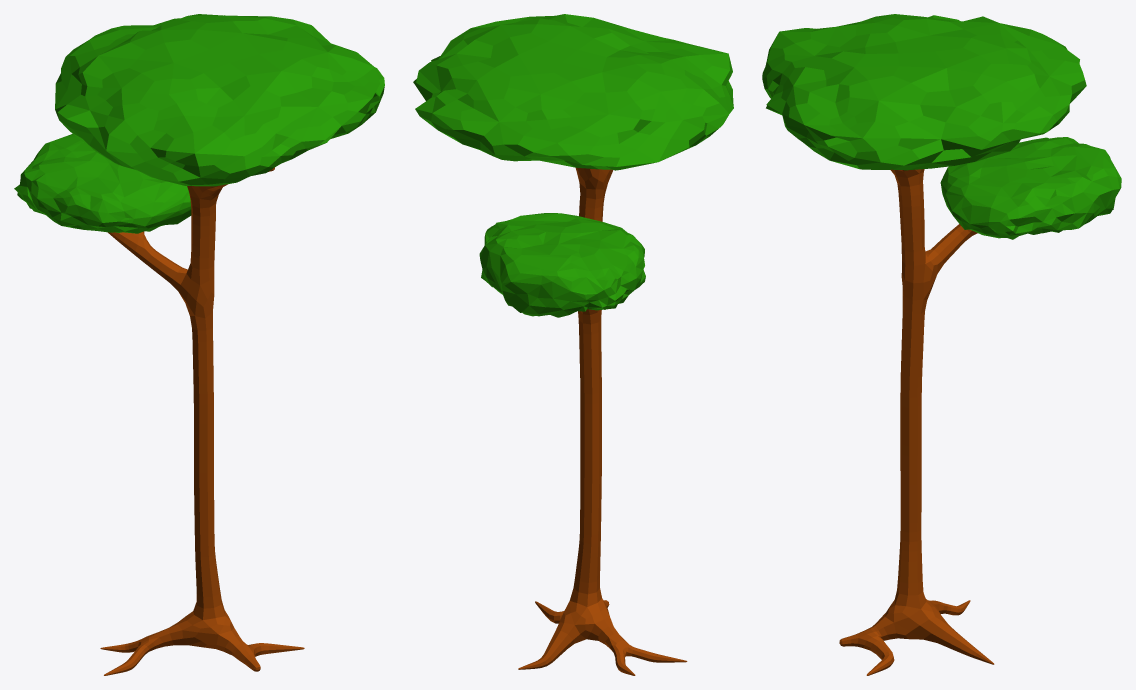
Rendered from trees.fbx.
The picture shows the model from 3 angles, left to right: view 1: azimuth 30°, elevation 25°; view 2: azimuth 150°, elevation 25°; view 3: azimuth 270°, elevation 25°; orthographic projection. The views are drawn at different scales.
Parts seen in each view (by area): view 1: arbre; view 2: arbre; view 3: arbre.
Part boxes in pixels (x1,y1,x2,y2): arbre: (14, 14, 384, 675); arbre: (413, 14, 733, 675); arbre: (762, 14, 1121, 675).
Size of the model in its own units: 1724 by 3492 by 1869.
